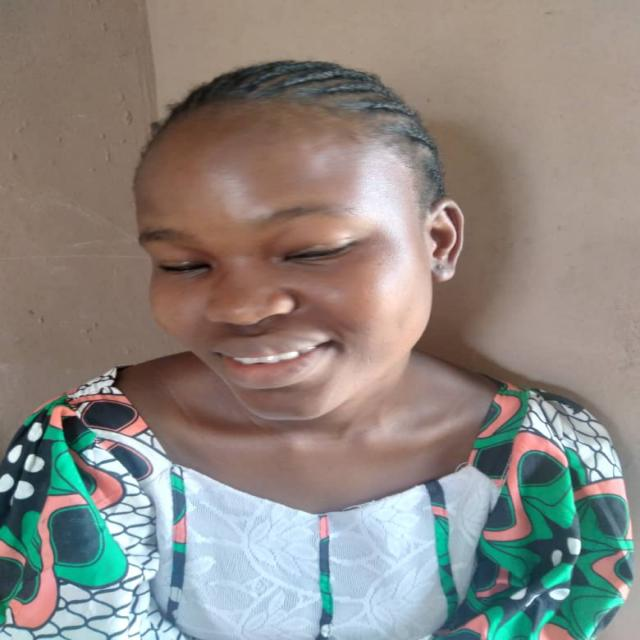happy: (123, 80, 458, 426)
